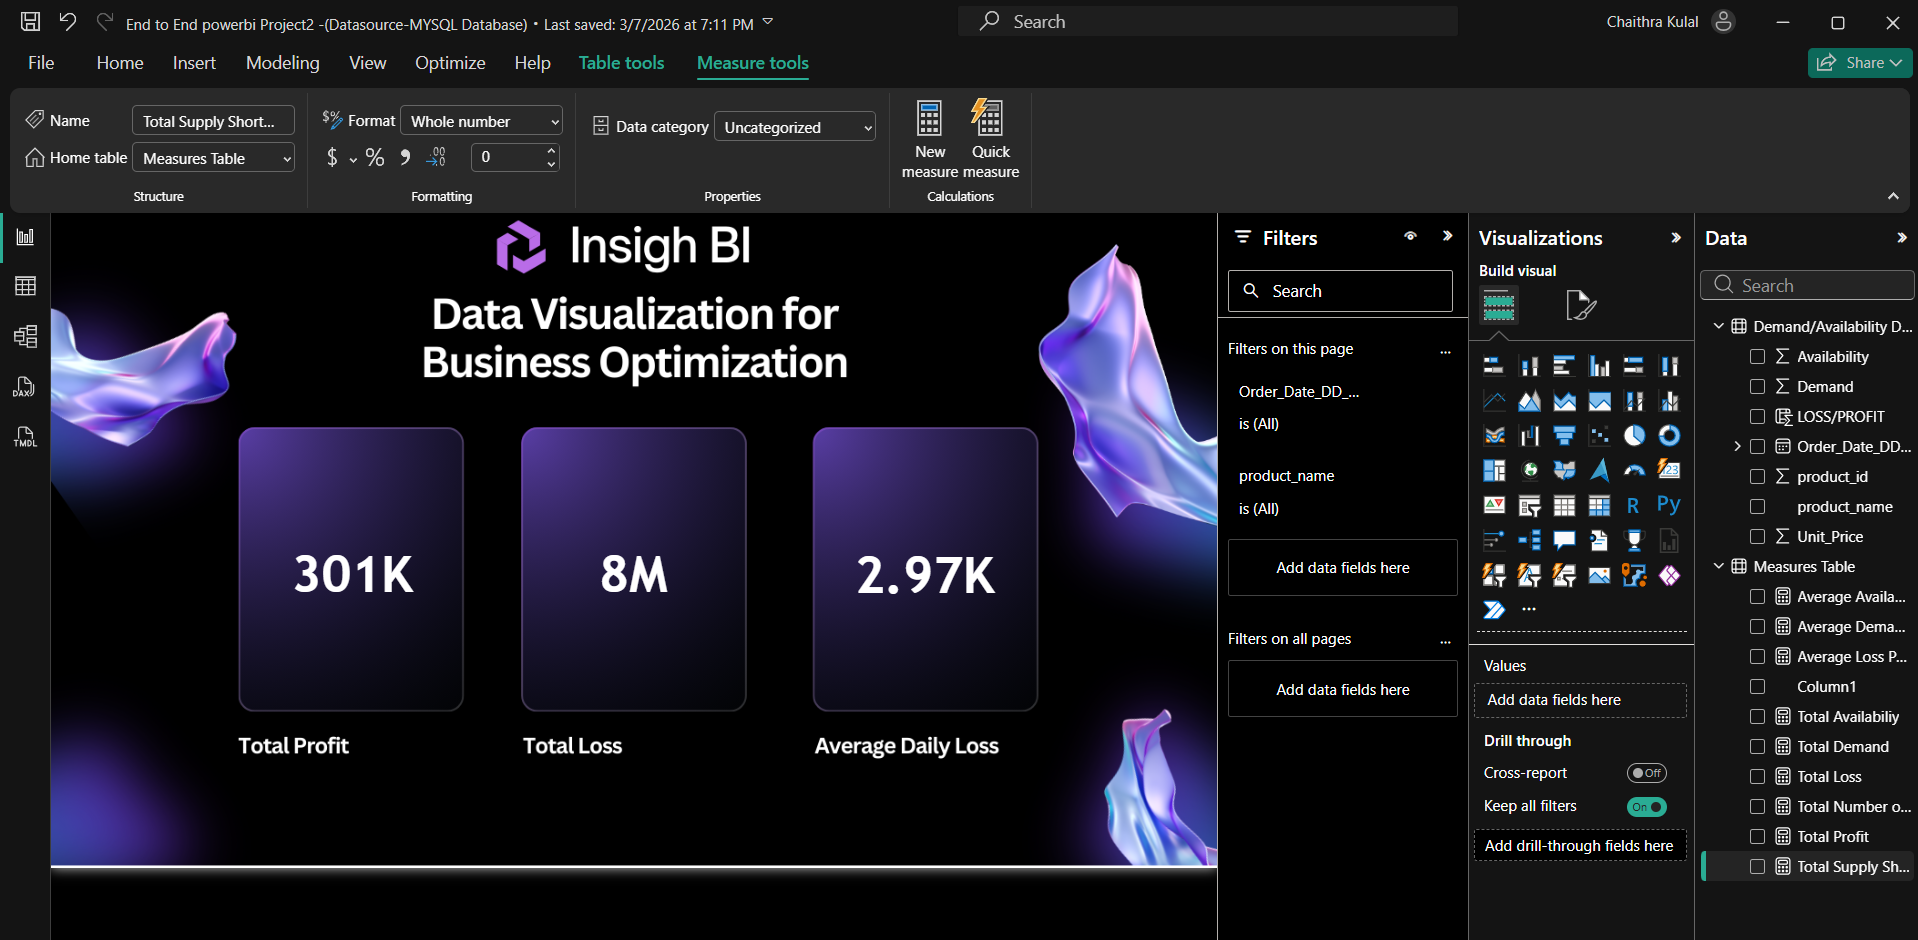

This screenshot's page, from the dashboard's own definition file:
{"tool":"powerbi","page":{"name":"Page 2","canvas":[1280,720],"ordinal":1},"visuals":[{"type":"card","fields":{"Values":["Measures Table.Total Profit"]},"box":[207.2,234.6,247,314.2],"z":0},{"type":"card","fields":{"Values":["Measures Table.Total Loss"]},"box":[516,234.6,247,314.2],"z":1000},{"type":"card","fields":{"Values":["Measures Table.Average Loss Per Day"]},"box":[835.7,236,247,314.2],"z":2000}]}

Visuals, with their boxes on the page's 1280x720 design canvas (x1, y1, x2, y2). These are canvas units, not pixel positions in the 1918x940 screenshot, which may show the page scaled, cropped or inside an application window:
card - Measures Table.Total Profit: detection(207, 235, 454, 549)
card - Measures Table.Total Loss: detection(516, 235, 763, 549)
card - Measures Table.Average Loss Per Day: detection(836, 236, 1083, 550)
